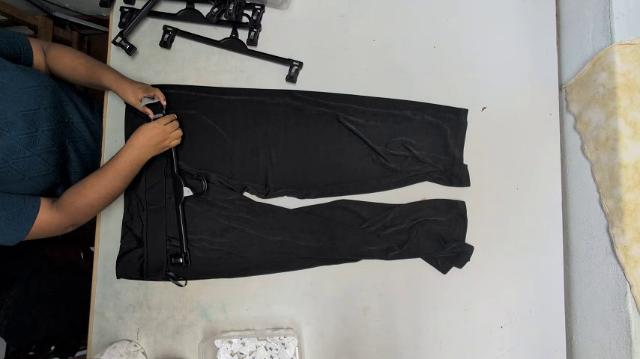new-garment: (116, 85, 473, 280), (116, 85, 472, 280), (124, 107, 149, 137)
